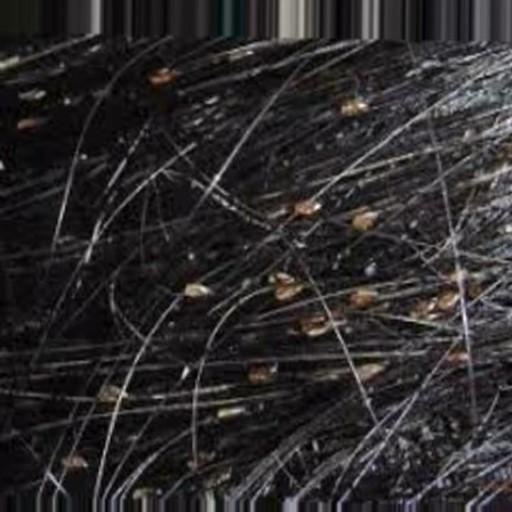Head_Lice: (401, 276, 479, 327), (280, 316, 358, 341), (336, 358, 394, 391), (83, 380, 136, 408), (262, 273, 314, 300), (242, 359, 287, 390), (263, 202, 332, 219), (56, 449, 96, 476), (344, 287, 383, 310), (348, 209, 384, 231), (152, 63, 182, 89), (13, 115, 52, 135), (342, 99, 376, 118), (438, 353, 478, 369), (172, 286, 218, 298)
